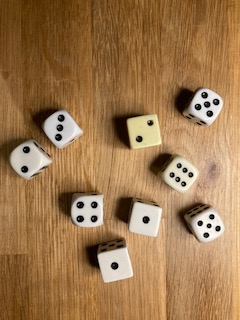five: (184, 203, 226, 243), (182, 88, 224, 128)
four: (72, 193, 104, 227)
one: (97, 238, 135, 283), (127, 198, 163, 237)
six: (158, 154, 200, 194)
three: (41, 109, 84, 149)
two: (9, 140, 52, 181), (127, 114, 163, 149)
